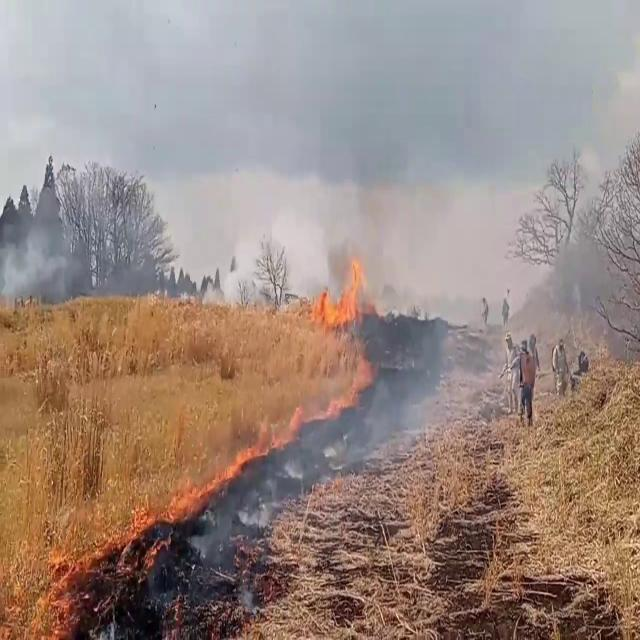Fire: (0, 529, 88, 640), (310, 244, 370, 338), (196, 434, 262, 502), (119, 496, 162, 548)
Smoke: (501, 192, 634, 380), (0, 214, 76, 316)
